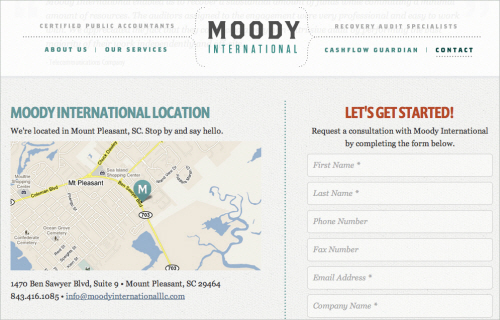_form_: (84, 1, 500, 320)
field: (307, 153, 493, 177), (306, 181, 492, 205), (306, 209, 492, 233), (306, 237, 492, 261), (307, 266, 493, 290), (307, 293, 493, 317)
